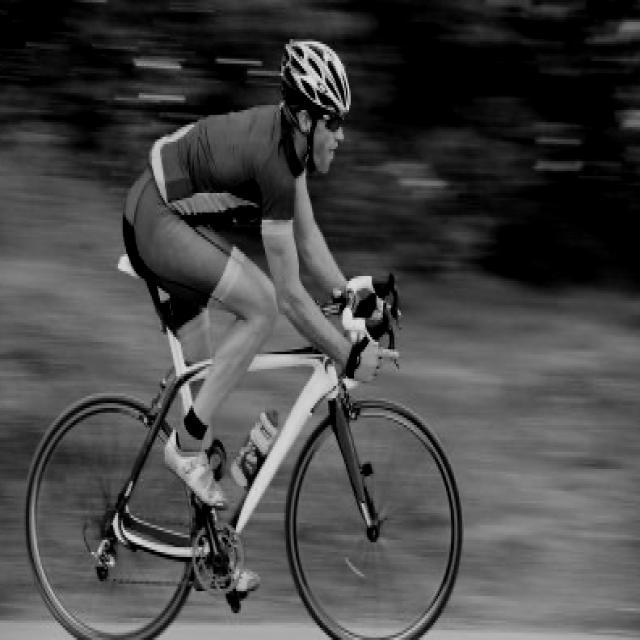Helmet: (276, 30, 354, 184)
